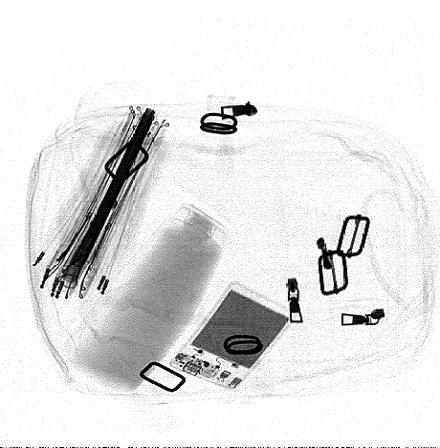Powerbank: (168, 282, 294, 393)
